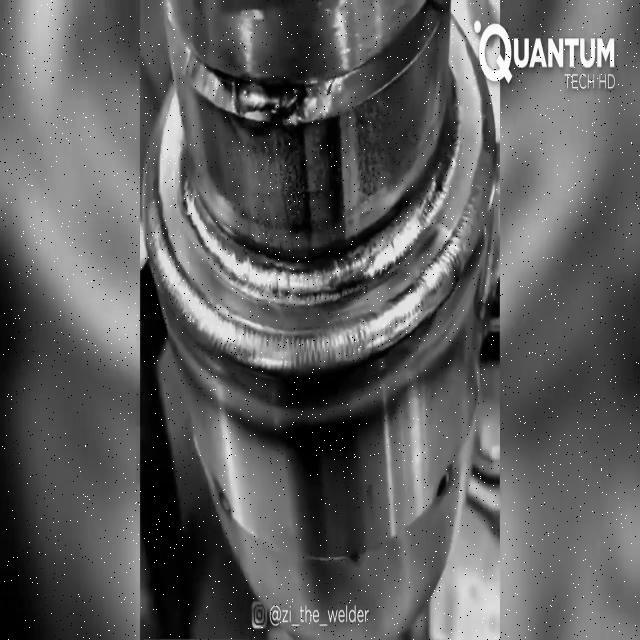Good Welding: (145, 20, 498, 378)
